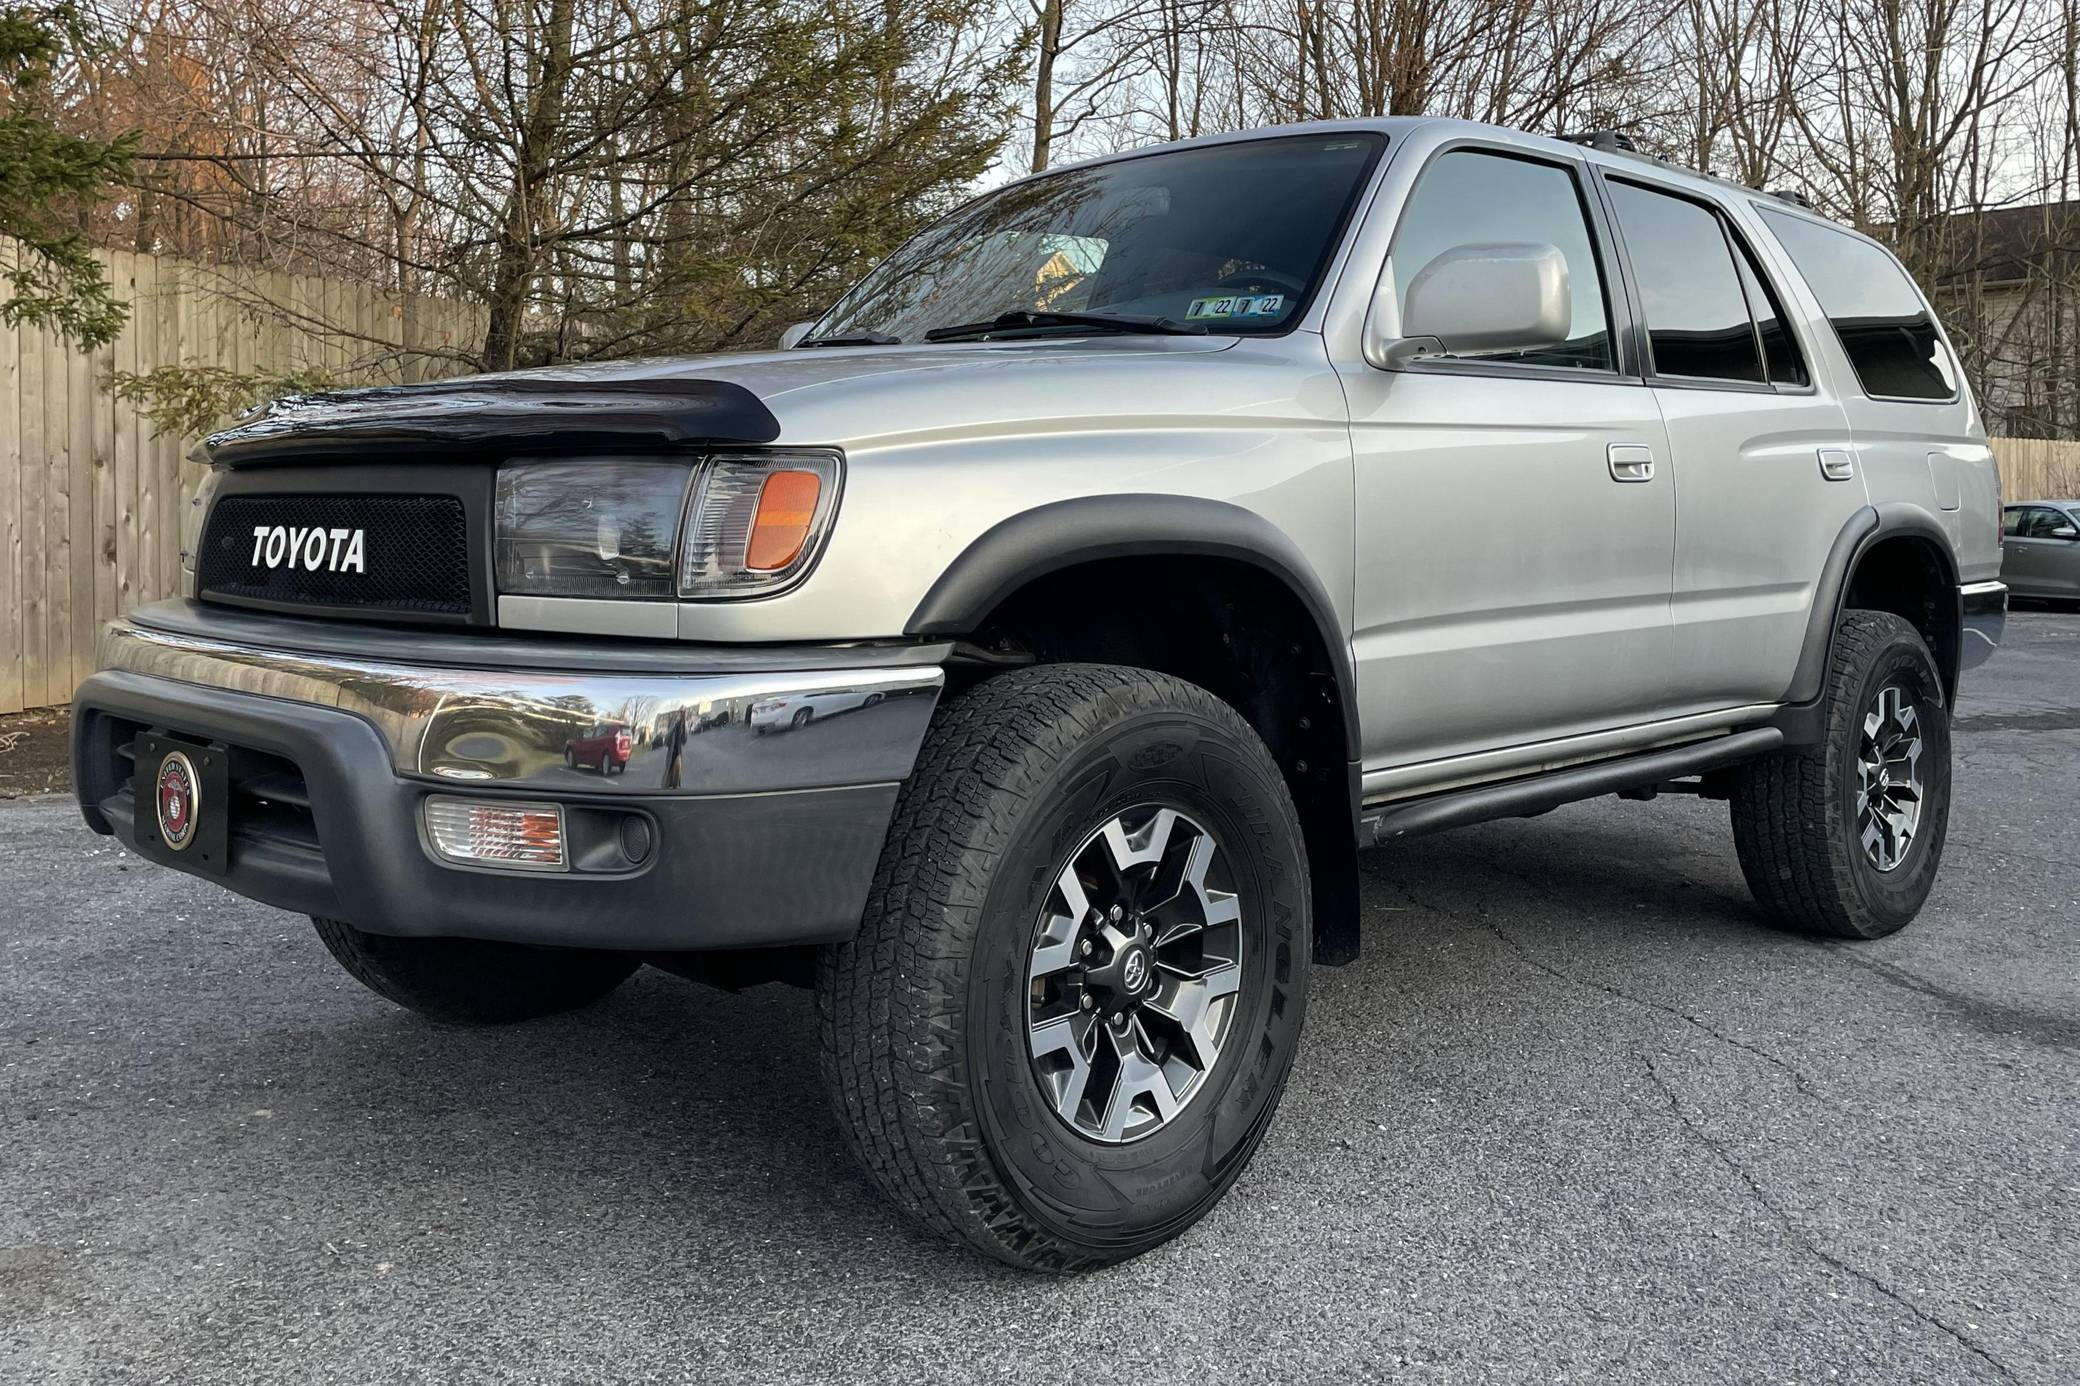car: (59, 101, 2020, 1273)
